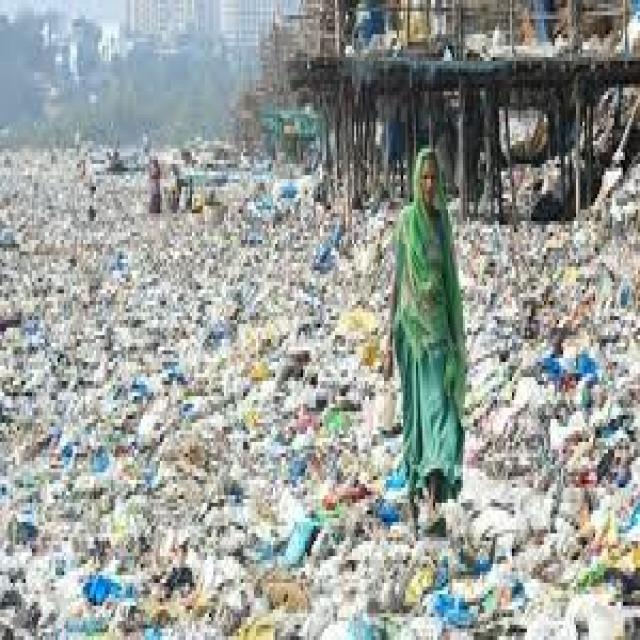heap: (27, 192, 392, 634)
